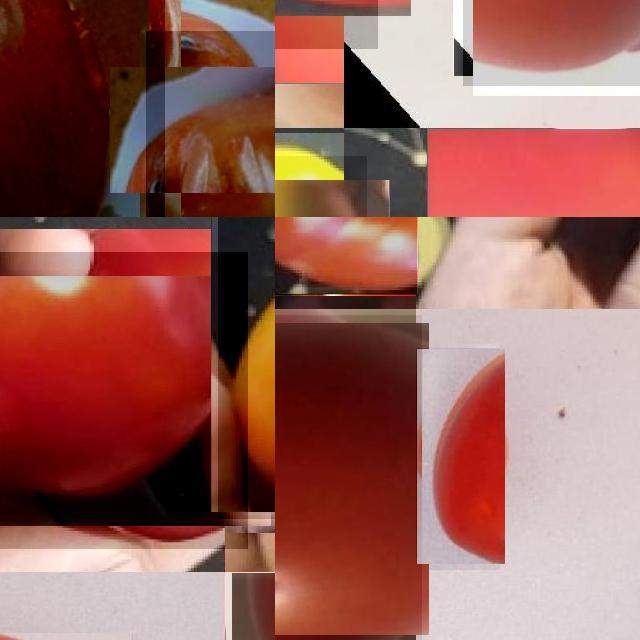1: (0, 0, 165, 217), (145, 31, 275, 217)
Fresh Tomato: (0, 252, 248, 549), (275, 315, 422, 640), (427, 128, 640, 217), (463, 0, 640, 86)
Rotten Tomato: (416, 348, 505, 564)
